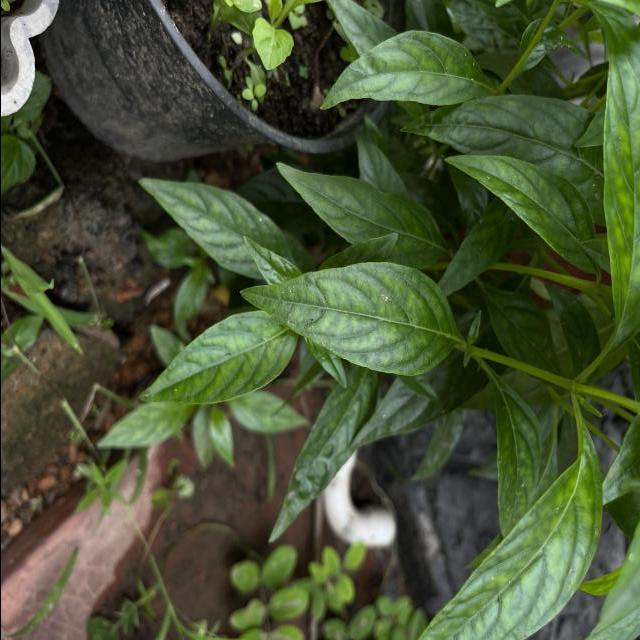Andrographis paniculata: (415, 422, 600, 640), (238, 261, 462, 377), (443, 149, 597, 276), (274, 157, 444, 266), (265, 374, 372, 545), (136, 309, 296, 407), (137, 177, 291, 277), (317, 29, 492, 114), (600, 23, 640, 342), (438, 204, 514, 296), (95, 403, 195, 451)
